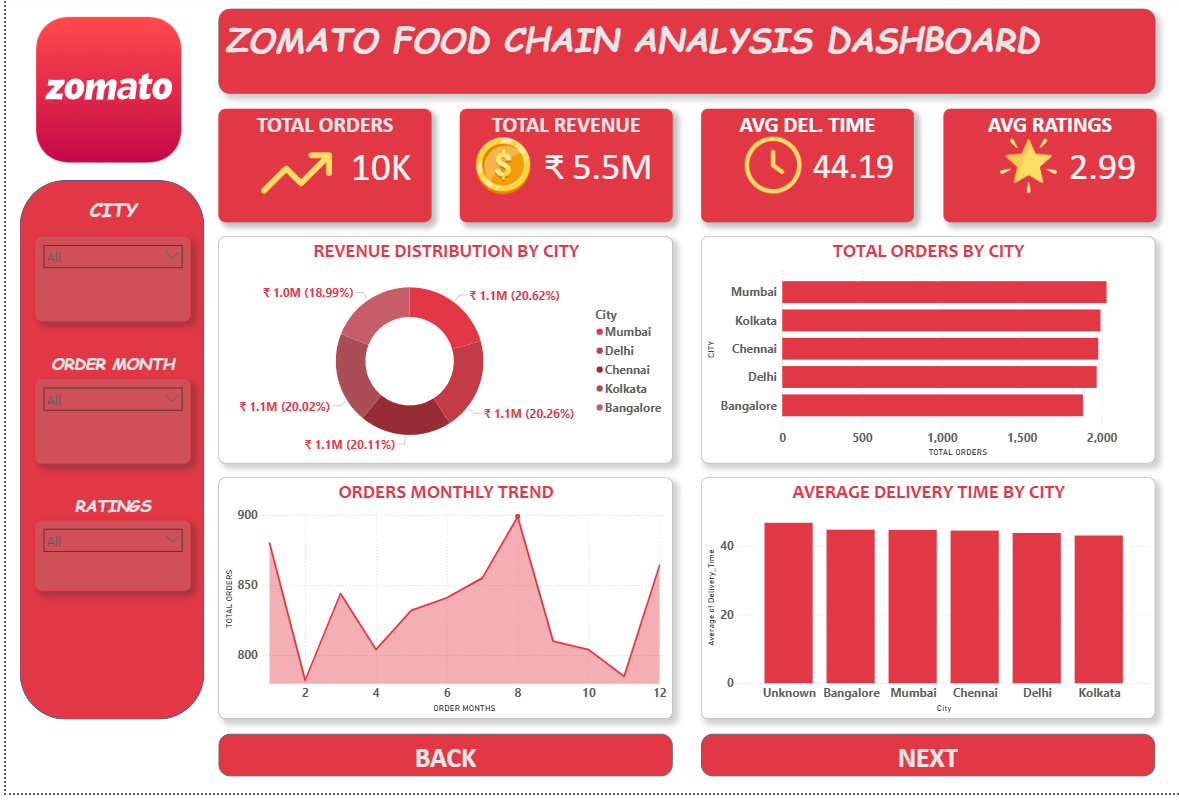

The dashboard page shown, as its layout file describes it:
{"tool":"powerbi","page":{"name":"Page 1","canvas":[2000,1350],"ordinal":0},"visuals":[{"type":"group","id":"g1","title":"Group 1","box":[1584,192,360,192],"z":0},{"type":"cardVisual","fields":{"Data":["Count(data.Order_ID)"]},"box":[360,192,360,192],"z":1000,"group":"g4"},{"type":"group","id":"g2","title":"Group 2","box":[1176,192,360,192],"z":1000},{"type":"group","id":"g3","title":"Group 3","box":[768,192,360,192],"z":2000},{"type":"cardVisual","fields":{"Data":["data.Total_revenue"]},"box":[768,192,360,192],"z":2000,"group":"g3"},{"type":"group","id":"g4","title":"Group 4","box":[360,192,360,192],"z":3000},{"type":"cardVisual","fields":{"Data":["Avg(data.Delivery_Time)"]},"box":[1176,192,360,192],"z":3000,"group":"g2"},{"type":"barChart","title":"TOTAL ORDERS BY CITY","fields":{"Y":["Count(data.Order_ID)"],"Category":["data.City"]},"box":[1176,408,768,384],"z":4000},{"type":"cardVisual","fields":{"Data":["Avg(data.Rating)"]},"box":[1584,192,360,192],"z":5000,"group":"g1"},{"type":"donutChart","title":"REVENUE DISTRIBUTION BY CITY","fields":{"Y":["data.Total_revenue"],"Category":["data.City"]},"box":[360,408,768,384],"z":5000},{"type":"lineChart","title":"ORDERS MONTHLY TREND","fields":{"Category":["data.Order_Month"],"Y":["Count(data.Order_ID)"]},"box":[360,816,768,408],"z":6000},{"type":"image","box":[0,0,352,304],"z":7000},{"type":"textbox","box":[360,192,360,96],"z":8000,"group":"g4"},{"type":"image","box":[1656,240,144,96],"z":8000},{"type":"image","box":[360,240,264,120],"z":9000},{"type":"textbox","box":[768,192,360,72],"z":10000,"group":"g3"},{"type":"image","box":[792,240,96,96],"z":10000},{"type":"textbox","box":[1176,192,360,72],"z":11000,"group":"g2"},{"type":"image","box":[1248,216,96,144],"z":11000},{"type":"shape","box":[24,312,312,912],"z":12000},{"type":"textbox","box":[360,24,1584,144],"z":13000},{"type":"textbox","box":[1584,192,360,96],"z":14000,"group":"g1"},{"type":"columnChart","title":"AVERAGE DELIVERY TIME BY CITY","fields":{"Category":["data.City"],"Y":["Avg(data.Delivery_Time)"]},"box":[1176,816,768,408],"z":14000},{"type":"slicer","fields":{"Values":["data.Order_Month"]},"box":[48,648,264,144],"z":15000},{"type":"slicer","fields":{"Values":["data.City"]},"box":[48,408,264,144],"z":16000},{"type":"textbox","box":[48,336,264,72],"z":17000},{"type":"textbox","box":[48,600,264,72],"z":18000},{"type":"slicer","fields":{"Values":["data.Rating"]},"box":[48,888,264,120],"z":19000},{"type":"textbox","box":[48,840,264,72],"z":20000},{"type":"actionButton","box":[360,1248,768,72],"z":21000},{"type":"actionButton","box":[1176,1248,768,72],"z":22000}]}

Visuals, with their boxes in screenshot pixels (x1, y1, x2, y2), scaled from the page's 2000x1350 canvas onto the 1179x802 screenshot:
"Group 1" group: {"left": 934, "top": 114, "right": 1146, "bottom": 228}
cardVisual - Count(data.Order_ID): {"left": 212, "top": 114, "right": 424, "bottom": 228}
"Group 2" group: {"left": 693, "top": 114, "right": 905, "bottom": 228}
"Group 3" group: {"left": 453, "top": 114, "right": 665, "bottom": 228}
cardVisual - data.Total_revenue: {"left": 453, "top": 114, "right": 665, "bottom": 228}
"Group 4" group: {"left": 212, "top": 114, "right": 424, "bottom": 228}
cardVisual - Avg(data.Delivery_Time): {"left": 693, "top": 114, "right": 905, "bottom": 228}
"TOTAL ORDERS BY CITY" barChart: {"left": 693, "top": 242, "right": 1146, "bottom": 471}
cardVisual - Avg(data.Rating): {"left": 934, "top": 114, "right": 1146, "bottom": 228}
"REVENUE DISTRIBUTION BY CITY" donutChart: {"left": 212, "top": 242, "right": 665, "bottom": 471}
"ORDERS MONTHLY TREND" lineChart: {"left": 212, "top": 485, "right": 665, "bottom": 727}
image: {"left": 0, "top": 0, "right": 208, "bottom": 181}
textbox: {"left": 212, "top": 114, "right": 424, "bottom": 171}
image: {"left": 976, "top": 143, "right": 1061, "bottom": 200}
image: {"left": 212, "top": 143, "right": 368, "bottom": 214}
textbox: {"left": 453, "top": 114, "right": 665, "bottom": 157}
image: {"left": 467, "top": 143, "right": 523, "bottom": 200}
textbox: {"left": 693, "top": 114, "right": 905, "bottom": 157}
image: {"left": 736, "top": 128, "right": 792, "bottom": 214}
shape: {"left": 14, "top": 185, "right": 198, "bottom": 727}
textbox: {"left": 212, "top": 14, "right": 1146, "bottom": 100}
textbox: {"left": 934, "top": 114, "right": 1146, "bottom": 171}
"AVERAGE DELIVERY TIME BY CITY" columnChart: {"left": 693, "top": 485, "right": 1146, "bottom": 727}
slicer - data.Order_Month: {"left": 28, "top": 385, "right": 184, "bottom": 471}
slicer - data.City: {"left": 28, "top": 242, "right": 184, "bottom": 328}
textbox: {"left": 28, "top": 200, "right": 184, "bottom": 242}
textbox: {"left": 28, "top": 356, "right": 184, "bottom": 399}
slicer - data.Rating: {"left": 28, "top": 528, "right": 184, "bottom": 599}
textbox: {"left": 28, "top": 499, "right": 184, "bottom": 542}
actionButton: {"left": 212, "top": 741, "right": 665, "bottom": 784}
actionButton: {"left": 693, "top": 741, "right": 1146, "bottom": 784}
